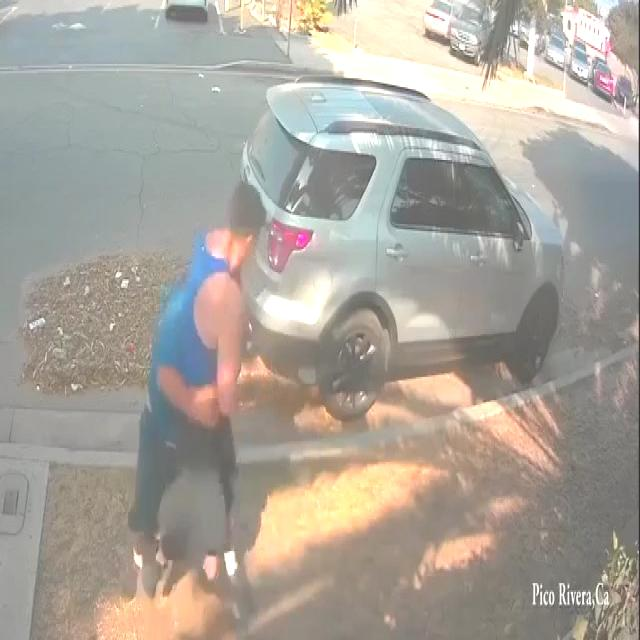fight: (127, 178, 270, 627)
